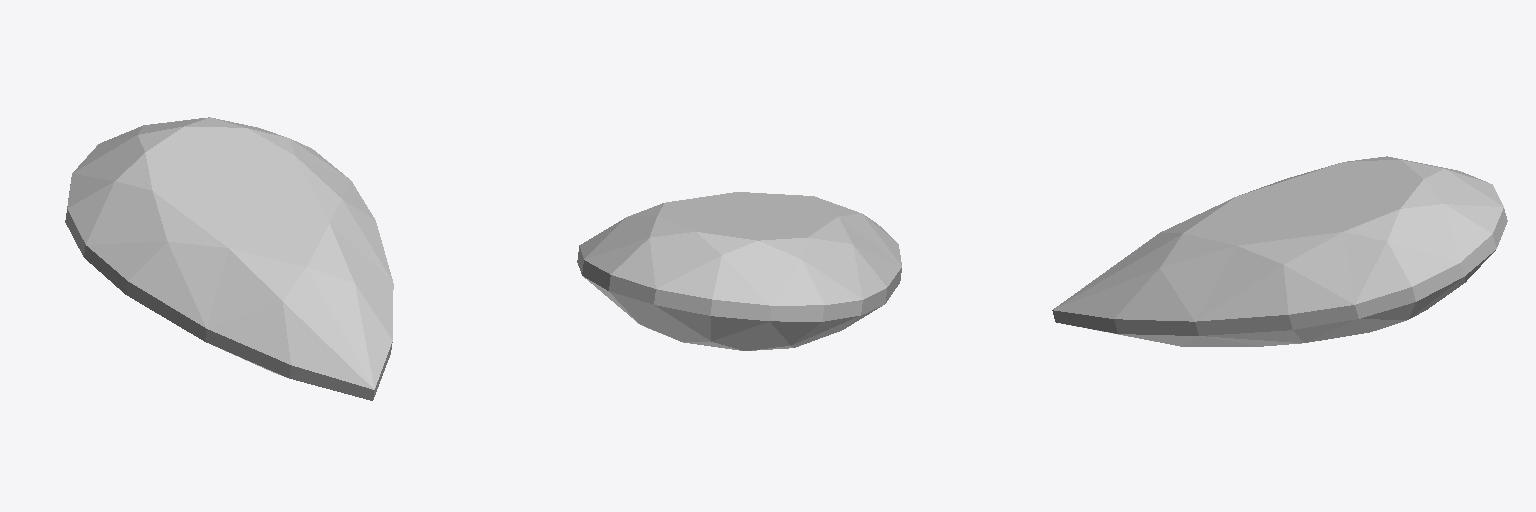
The model's file is blue.obj.
3 renders of one model, left to right at view 1: azimuth 30°, elevation 25°; view 2: azimuth 150°, elevation 25°; view 3: azimuth 270°, elevation 25°, orthographic.
Parts seen in each view (by area): view 1: Gemstone_02.003; view 2: Gemstone_02.003; view 3: Gemstone_02.003.
Part boxes in pixels (left/top/right/bottom): Gemstone_02.003: left=65, top=117, right=393, bottom=400; Gemstone_02.003: left=577, top=192, right=901, bottom=350; Gemstone_02.003: left=1052, top=156, right=1507, bottom=346.
Bounding box in the file's own units: 0.7537 × 0.4175 × 1.12.